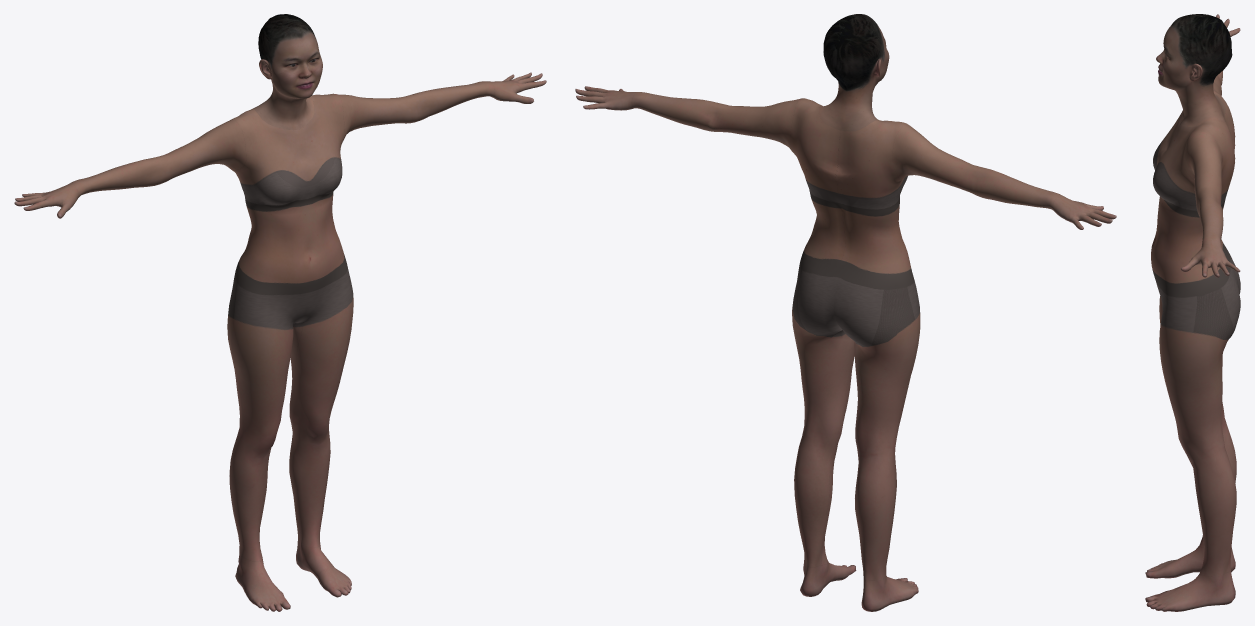
The model's file is full_body.obj.
3 renders of one model, left to right at view 1: azimuth 30°, elevation 25°; view 2: azimuth 150°, elevation 25°; view 3: azimuth 270°, elevation 25°, orthographic.
Size of the model in its own units: 1.7 by 1.75 by 0.2636.
Materials: 1 (1 with a texture image).
